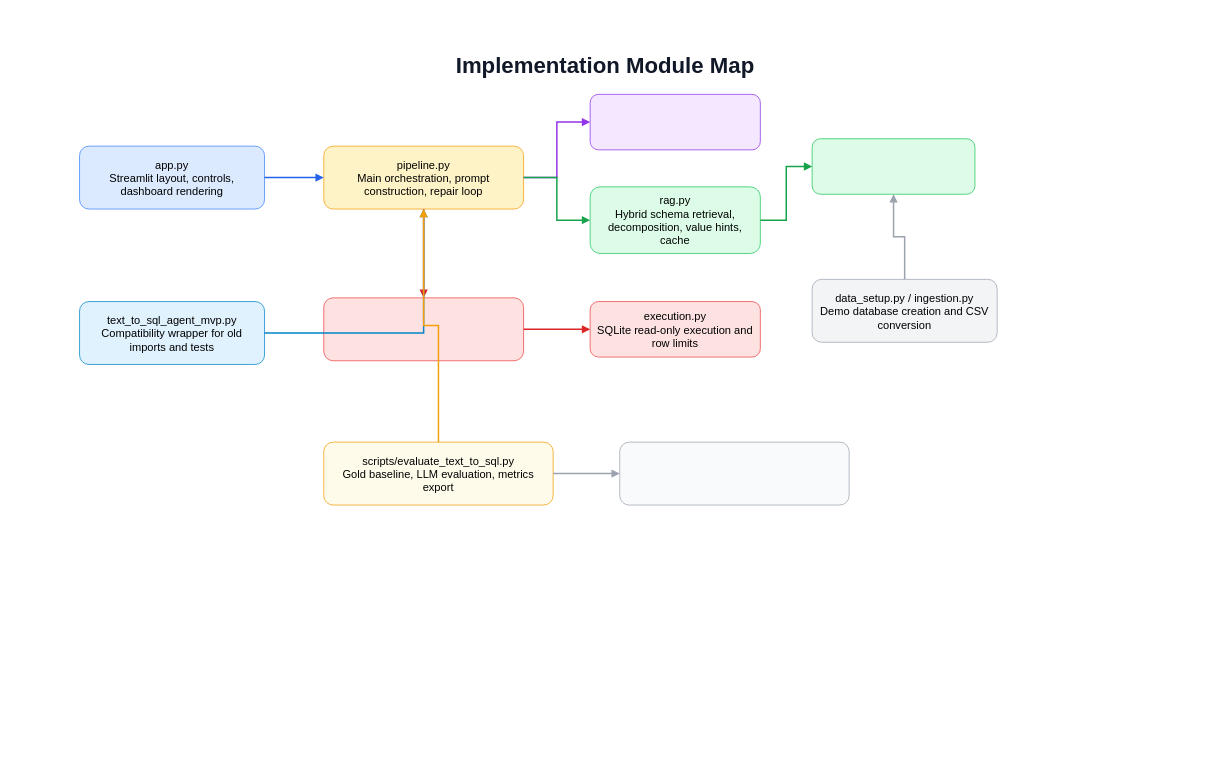
Image size: 1209x765. Some labels were removed from this diagram. The shapes that lost their labels are listed below. From the top down, each one's centre as x and y in pixels, then its label:
At (674,122): "llm.py Gemini and Ollama client calls".
At (893,166): "schema.py DDL extraction, columns, foreign keys".
At (423,329): "safety.py SQL validation, sqlglot AST, read-only policy".
At (734,473): "docs/ and README.md Report, slides, architecture, screenshots, deployment".
